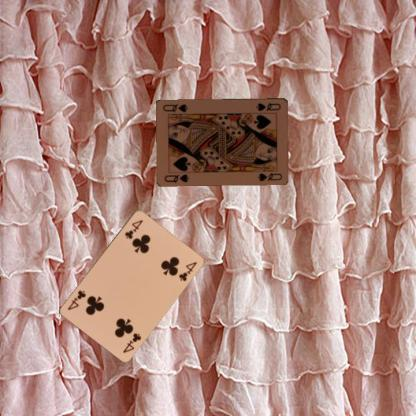4c: (120, 330, 142, 354), (122, 217, 144, 240)
Qs: (254, 100, 282, 112), (162, 172, 190, 184)
